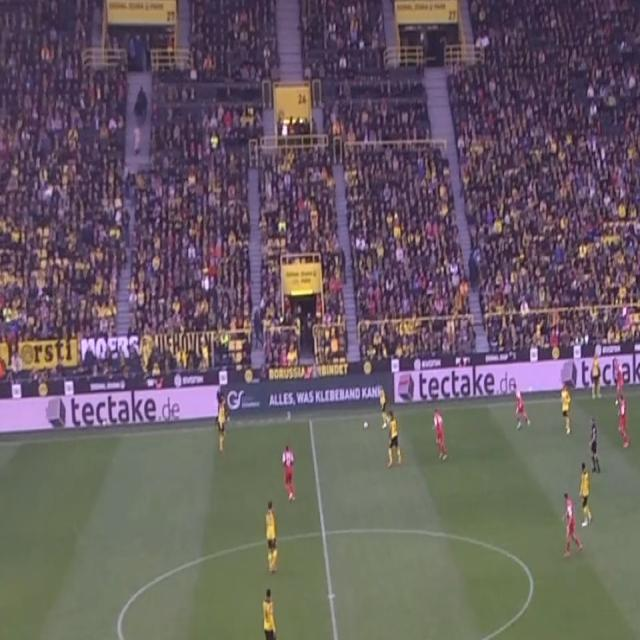ball: (362, 418, 370, 431)
